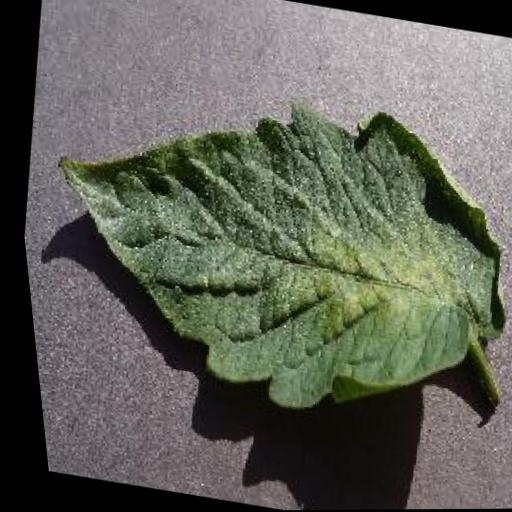Spider Mites: (6, 59, 512, 445)
